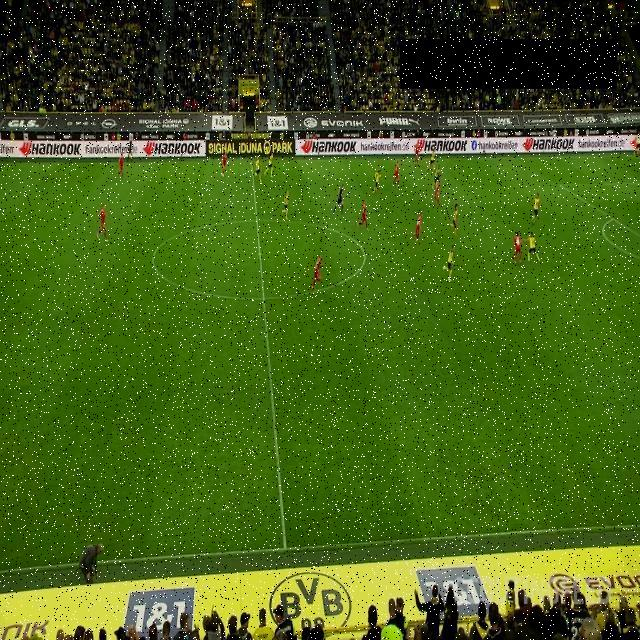Corner: (630, 132, 640, 158)
Referee: (333, 184, 345, 216), (128, 138, 134, 162)
TEAM 1: (97, 204, 109, 242), (311, 253, 323, 290), (357, 199, 369, 231), (412, 211, 423, 243), (432, 180, 442, 208), (514, 230, 522, 264), (392, 160, 400, 188), (221, 152, 228, 178), (118, 153, 124, 179), (414, 141, 420, 165)
TEAM 2: (522, 230, 540, 262), (442, 245, 455, 283), (449, 204, 459, 238), (531, 192, 541, 226), (264, 151, 274, 178), (372, 168, 382, 194), (282, 190, 290, 220), (426, 150, 436, 172), (432, 164, 440, 190), (255, 154, 262, 183)
